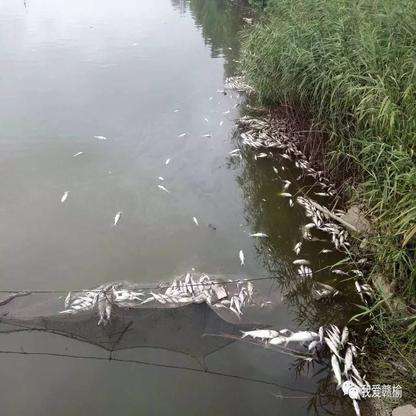deceased fish: (237, 327, 280, 338), (284, 329, 318, 342), (324, 336, 343, 357), (331, 355, 343, 385), (344, 347, 352, 378), (111, 210, 122, 226), (267, 337, 288, 345), (292, 257, 312, 265), (60, 190, 71, 203), (239, 248, 244, 267)
